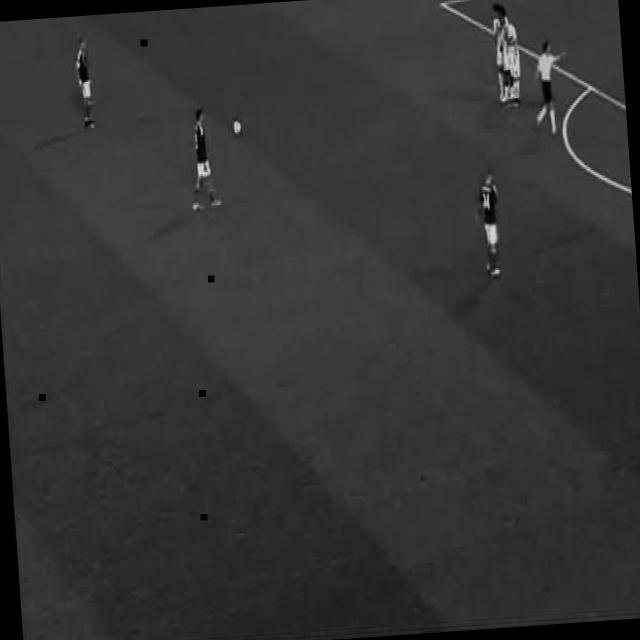ball: (233, 120, 241, 136)
player-white: (185, 108, 221, 211), (531, 40, 569, 134), (475, 167, 504, 279), (74, 37, 98, 129), (491, 2, 509, 104), (497, 8, 513, 101), (506, 22, 522, 108)
